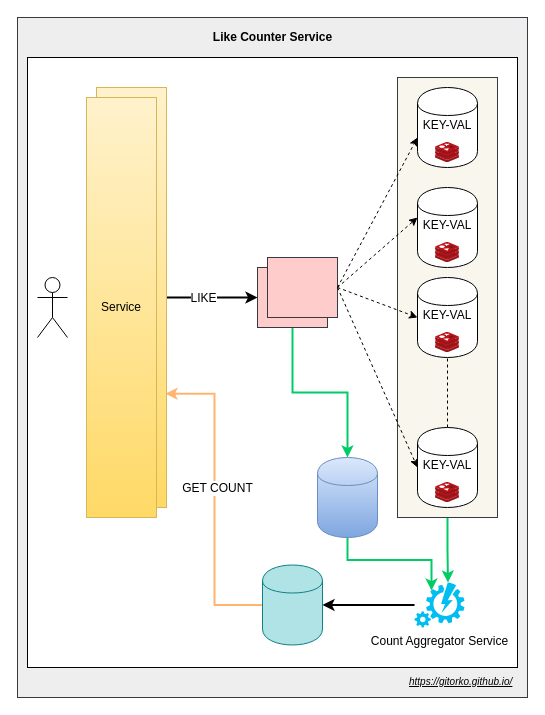
Image size: 545x715. Some labels were removed from this diagram. The shapes that lost their labels are listed below. From the top down, each one's centre as x and y in pixels, then its label:
[52,307]: User
[302,287]: Round Robin Count Disperser
[347,497]: Event Queue
[292,604]: DB
